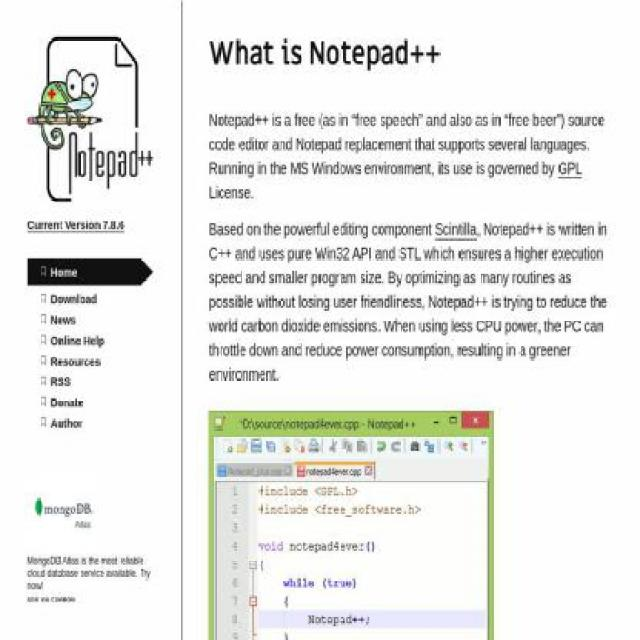button: (26, 475, 154, 553), (26, 555, 154, 593), (26, 259, 154, 286), (26, 291, 154, 307), (26, 312, 154, 328), (26, 332, 154, 348), (26, 353, 154, 369), (26, 374, 154, 389), (26, 395, 154, 410), (26, 415, 154, 430), (27, 190, 153, 205), (26, 218, 125, 233), (0, 0, 640, 2), (26, 597, 154, 605), (434, 219, 477, 239), (558, 159, 582, 179)
